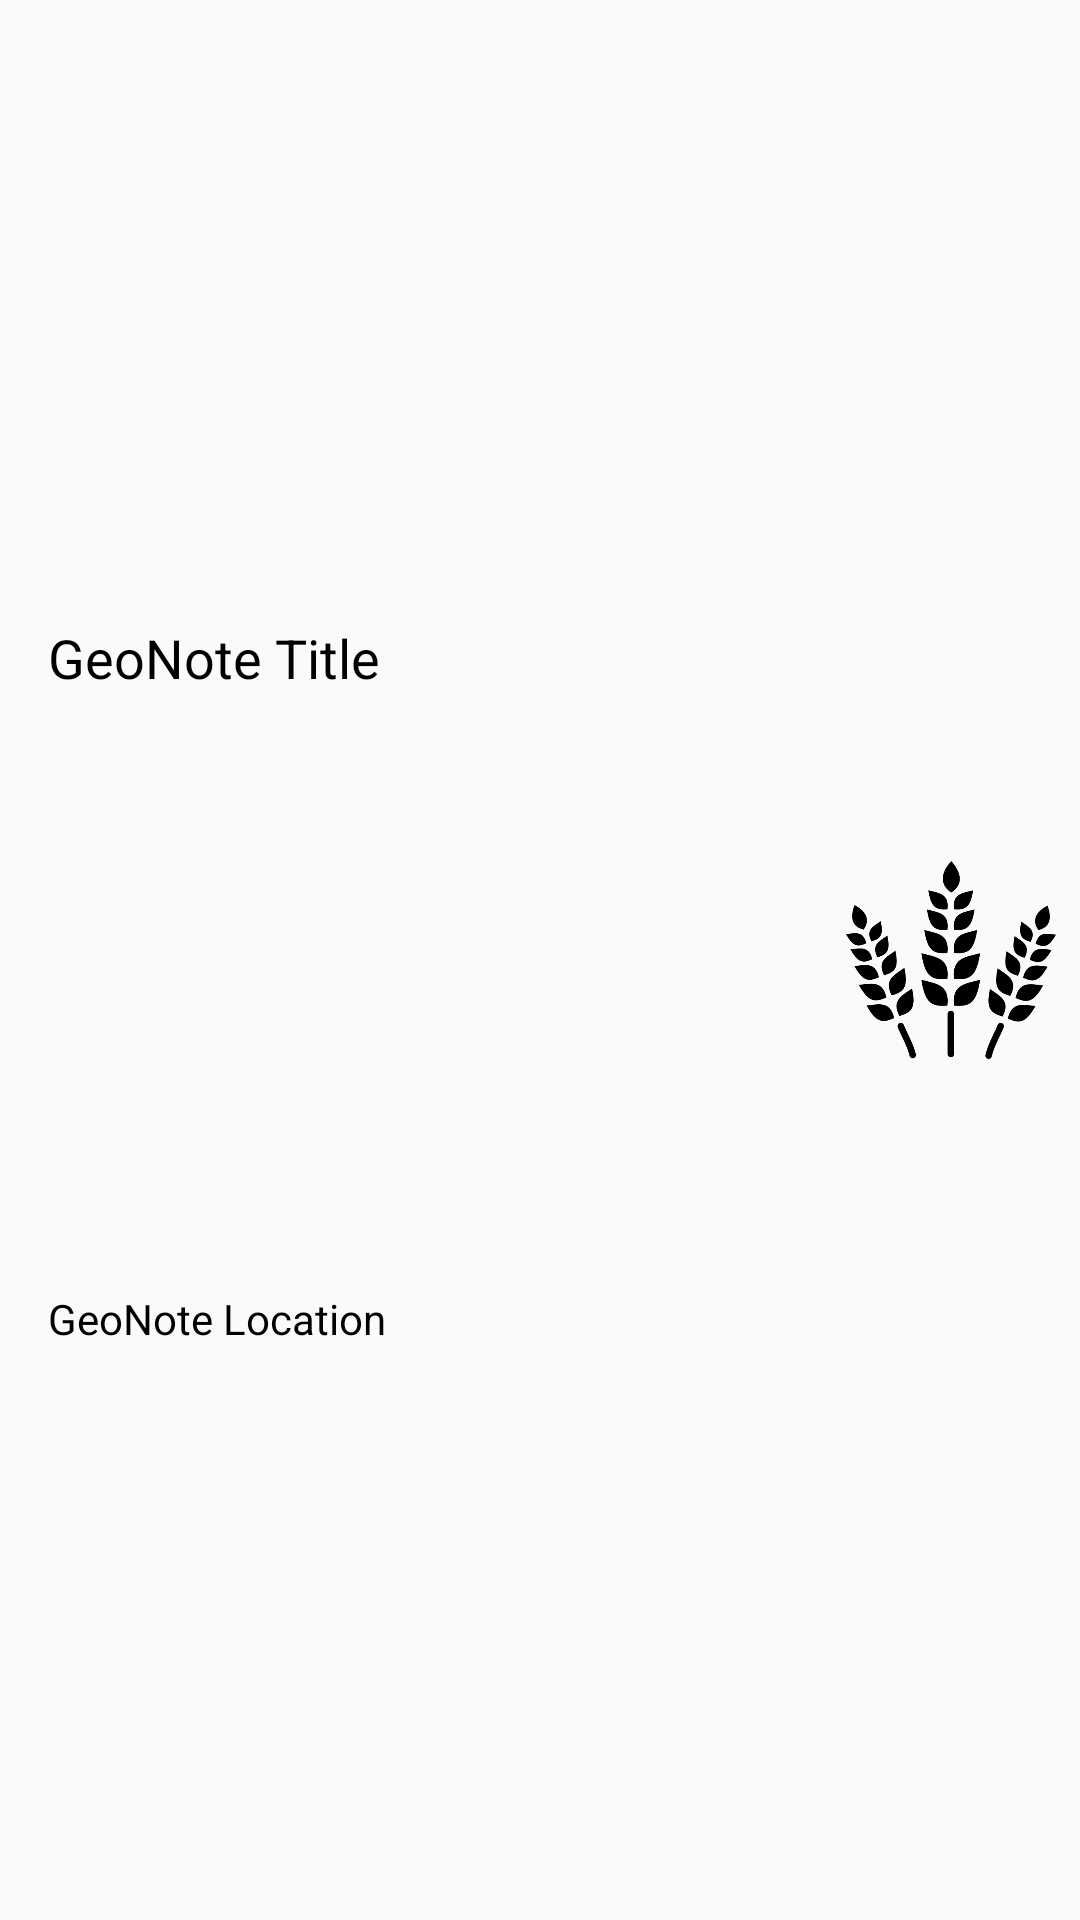

Where to tap for icons on this 1080x1920 app screen, as (x=x, y=y):
crop: (x=951, y=960)
